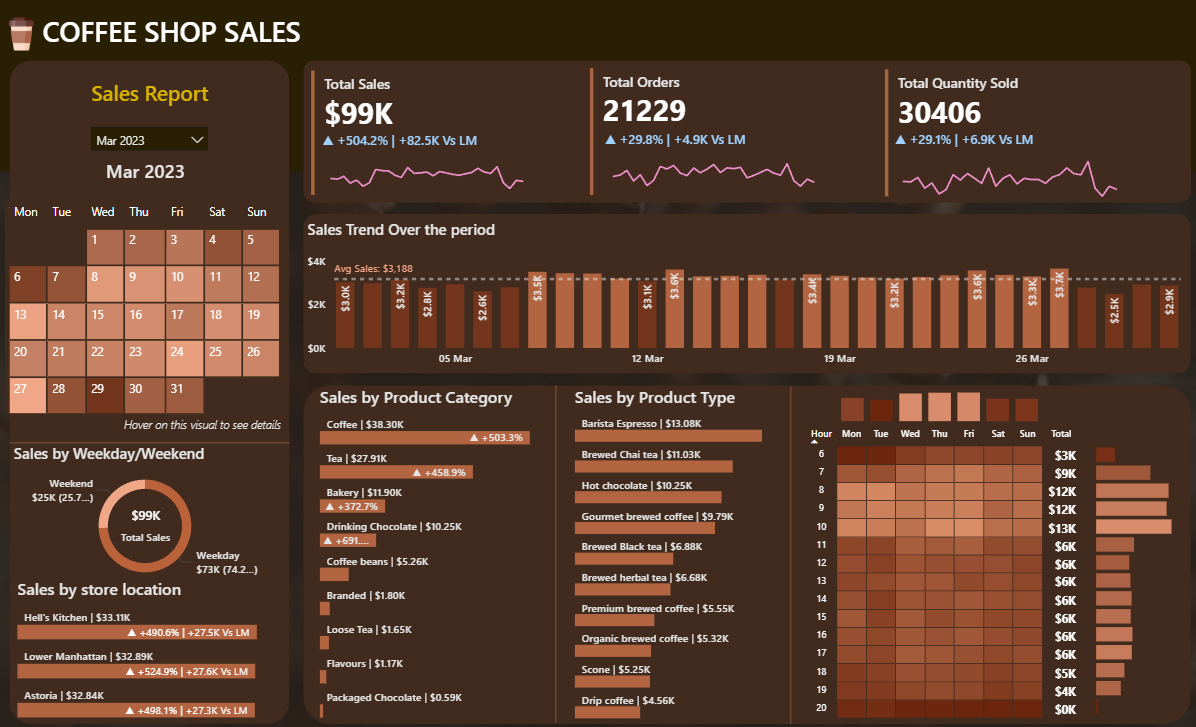

The page's visual inventory and layout, read from the dashboard file:
{"tool":"powerbi","page":{"name":"Coffee Sales","canvas":[1400,850],"ordinal":0},"visuals":[{"type":"actionButton","box":[354.9,71,310,165.1],"z":0},{"type":"shape","box":[0,0,1400,200],"z":1000},{"type":"shape","box":[355.1,71,1029,165.2],"z":2000},{"type":"shape","box":[14.5,71,324.5,769.2],"z":3000},{"type":"textbox","box":[47.8,10.1,324.6,60.9],"z":4000},{"type":"slicer","fields":{"Values":["Date Table.Month Year"]},"box":[104.3,143.4,144.9,50.7],"z":5000},{"type":"group","id":"g1","title":"Group 1","box":[359.2,78.2,314.3,157.9],"z":6000},{"type":"lineChart","fields":{"Category":["Date Table.Date Hierarchy.Date"],"Y":["Coffee Shop Sales.Total Orders"]},"box":[699.8,152.1,262.2,82.6],"z":6000,"group":"g2"},{"type":"lineChart","fields":{"Category":["Date Table.Date Hierarchy.Date"],"Y":["Coffee Shop Sales.Total Quantity Sold"]},"box":[1035.8,152.4,276.7,84],"z":6000,"group":"g3"},{"type":"lineChart","fields":{"Category":["Date Table.Date Hierarchy.Date"],"Y":["Coffee Shop Sales.Total Sales"]},"box":[372.2,152.9,252,82.8],"z":6000,"group":"g1"},{"type":"group","id":"g2","title":"Group 1","box":[682.3,75.3,310,159.3],"z":7000},{"type":"cardVisual","fields":{"Data":["Coffee Shop Sales.Total Orders"]},"box":[682.3,75.3,310,157.9],"z":7000,"group":"g2"},{"type":"cardVisual","fields":{"Data":["Coffee Shop Sales.Total Quantity Sold"]},"box":[1024.1,76.8,310,157.9],"z":7000,"group":"g3"},{"type":"cardVisual","fields":{"Data":["Coffee Shop Sales.Total Sales"]},"box":[359.2,78.2,314.3,155],"z":7000,"group":"g1"},{"type":"group","id":"g3","title":"Group 1","box":[1024.1,76.8,310,159.3],"z":8000},{"type":"pivotTable","fields":{"Columns":["Date Table.Day Name"],"Values":["Min(Date Table.Day Number)"],"Rows":["Date Table.Week Number"]},"box":[4.3,228.9,343.3,266.5],"z":9000},{"type":"card","fields":{"Values":["Min(Date Table.Month Year)"]},"box":[110.1,181.1,124.6,39.1],"z":10000},{"type":"card","fields":{"Values":["Coffee Shop Sales.Foot Note"]},"box":[137.6,476.6,201.3,37.7],"z":11000},{"type":"shape","box":[14.5,495.4,324.5,37.7],"z":12000},{"type":"donutChart","title":"Sales by Weekday/Weekend","fields":{"Category":["Date Table.Weekday/Weekend"],"Y":["Coffee Shop Sales.Total Sales"]},"box":[14.5,514.2,314.3,170.9],"z":13000},{"type":"card","fields":{"Values":["Coffee Shop Sales.Total Sales"]},"box":[128.9,582.3,86.9,53.6],"z":14000},{"type":"clusteredBarChart","title":"Sales by store location ","fields":{"Category":["Coffee Shop Sales.store_location"],"Y":["Coffee Shop Sales.placeholder","Coffee Shop Sales.Total Sales"]},"box":[18.8,670.7,314.3,169.5],"z":15000},{"type":"shape","box":[354.9,249.1,1028.5,185],"z":16000},{"type":"columnChart","title":"Sales Trend Over the period","fields":{"Category":["Coffee Shop Sales.transaction_date"],"Y":["Coffee Shop Sales.Total Sales"]},"box":[354.9,254.9,1028.5,179.6],"z":17000},{"type":"shape","box":[354.9,447.6,1028.5,392.6],"z":18000},{"type":"clusteredBarChart","title":"Sales by Product Category","fields":{"Category":["Coffee Shop Sales.product_category"],"Y":["Coffee Shop Sales.placeholder","Coffee Shop Sales.Total Sales"]},"box":[369.4,447.6,279.6,391.1],"z":19000},{"type":"shape","box":[630.1,447.6,34.8,391.1],"z":20000},{"type":"clusteredBarChart","title":"Sales by Product Type","fields":{"Y":["Coffee Shop Sales.placeholder","Coffee Shop Sales.Total Sales"],"Category":["Coffee Shop Sales.product_type"]},"box":[664.9,447.3,255.1,391.7],"z":21000},{"type":"shape","box":[902.4,449,34.8,391.1],"z":22000},{"type":"pivotTable","fields":{"Rows":["Coffee Shop Sales.Hour"],"Columns":["Date Table.Day Name"],"Values":["Coffee Shop Sales.Total Sales"]},"box":[932.9,489.6,331.7,350.5],"z":23000},{"type":"barChart","fields":{"Category":["Coffee Shop Sales.Hour"],"Y":["Coffee Shop Sales.Total Sales"]},"box":[1268.9,507,114.4,325.9],"z":24000},{"type":"columnChart","fields":{"Category":["Date Table.Day Name"],"Y":["Coffee Shop Sales.Total Sales"]},"box":[973.4,434.6,239,60.8],"z":25000},{"type":"textbox","box":[104.3,88.4,165.1,43.5],"z":26000},{"type":"image","box":[4.3,10.1,47.8,60.8],"z":27000}]}

Visuals, with their boxes in screenshot pixels (x1, y1, x2, y2), scaled from the page's 1400x850 canvas onto the 1196x727 screenshot:
actionButton: BBox(303, 61, 568, 202)
shape: BBox(0, 0, 1195, 171)
shape: BBox(303, 61, 1182, 202)
shape: BBox(12, 61, 290, 719)
textbox: BBox(41, 9, 318, 61)
slicer - Date Table.Month Year: BBox(89, 123, 213, 166)
"Group 1" group: BBox(307, 67, 575, 202)
lineChart - Date Table.Date Hierarchy.Date x Coffee Shop Sales.Total Orders: BBox(598, 130, 822, 201)
lineChart - Date Table.Date Hierarchy.Date x Coffee Shop Sales.Total Quantity Sold: BBox(885, 130, 1121, 202)
lineChart - Date Table.Date Hierarchy.Date x Coffee Shop Sales.Total Sales: BBox(318, 131, 533, 202)
"Group 1" group: BBox(583, 64, 848, 201)
cardVisual - Coffee Shop Sales.Total Orders: BBox(583, 64, 848, 199)
cardVisual - Coffee Shop Sales.Total Quantity Sold: BBox(875, 66, 1140, 201)
cardVisual - Coffee Shop Sales.Total Sales: BBox(307, 67, 575, 199)
"Group 1" group: BBox(875, 66, 1140, 202)
pivotTable - Date Table.Day Name x Min(Date Table.Day Number): BBox(4, 196, 297, 424)
card - Min(Date Table.Month Year): BBox(94, 155, 201, 188)
card - Coffee Shop Sales.Foot Note: BBox(118, 408, 290, 440)
shape: BBox(12, 424, 290, 456)
"Sales by Weekday/Weekend" donutChart: BBox(12, 440, 281, 586)
card - Coffee Shop Sales.Total Sales: BBox(110, 498, 184, 544)
"Sales by store location " clusteredBarChart: BBox(16, 574, 285, 719)
shape: BBox(303, 213, 1182, 371)
"Sales Trend Over the period" columnChart: BBox(303, 218, 1182, 372)
shape: BBox(303, 383, 1182, 719)
"Sales by Product Category" clusteredBarChart: BBox(316, 383, 554, 717)
shape: BBox(538, 383, 568, 717)
"Sales by Product Type" clusteredBarChart: BBox(568, 383, 786, 718)
shape: BBox(771, 384, 801, 719)
pivotTable - Coffee Shop Sales.Hour x Date Table.Day Name: BBox(797, 419, 1080, 719)
barChart - Coffee Shop Sales.Hour x Coffee Shop Sales.Total Sales: BBox(1084, 434, 1182, 712)
columnChart - Date Table.Day Name x Coffee Shop Sales.Total Sales: BBox(832, 372, 1036, 424)
textbox: BBox(89, 76, 230, 113)
image: BBox(4, 9, 45, 61)
